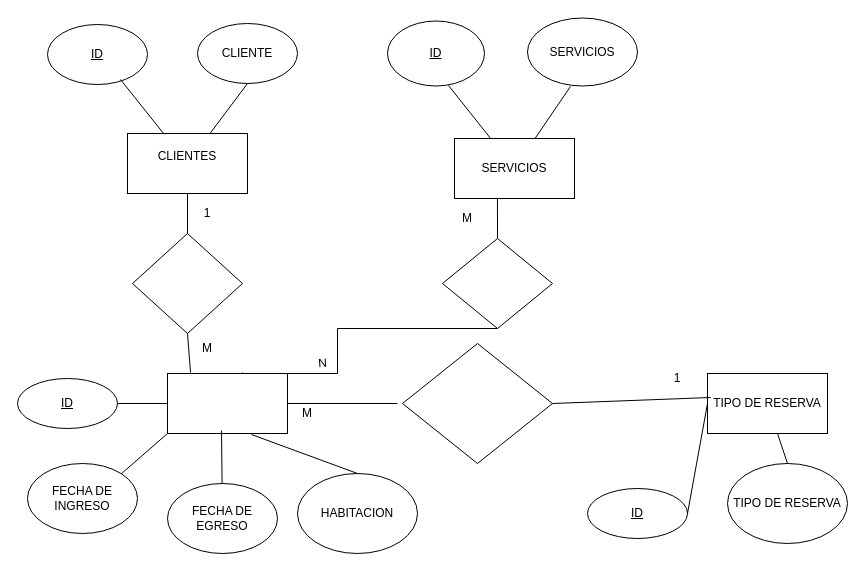
Some shapes in this 865 by 571 pixel diagram are drawn without their labels. Each missing label, with the centre of its shape:
RELACION CLIENTE RESERVAS: point 187,283
RESERVA, TIPO DE RESERVA: point 477,403
RESERVAS: point 227,403
RESERVAS SERVICIOS: point 497,283
